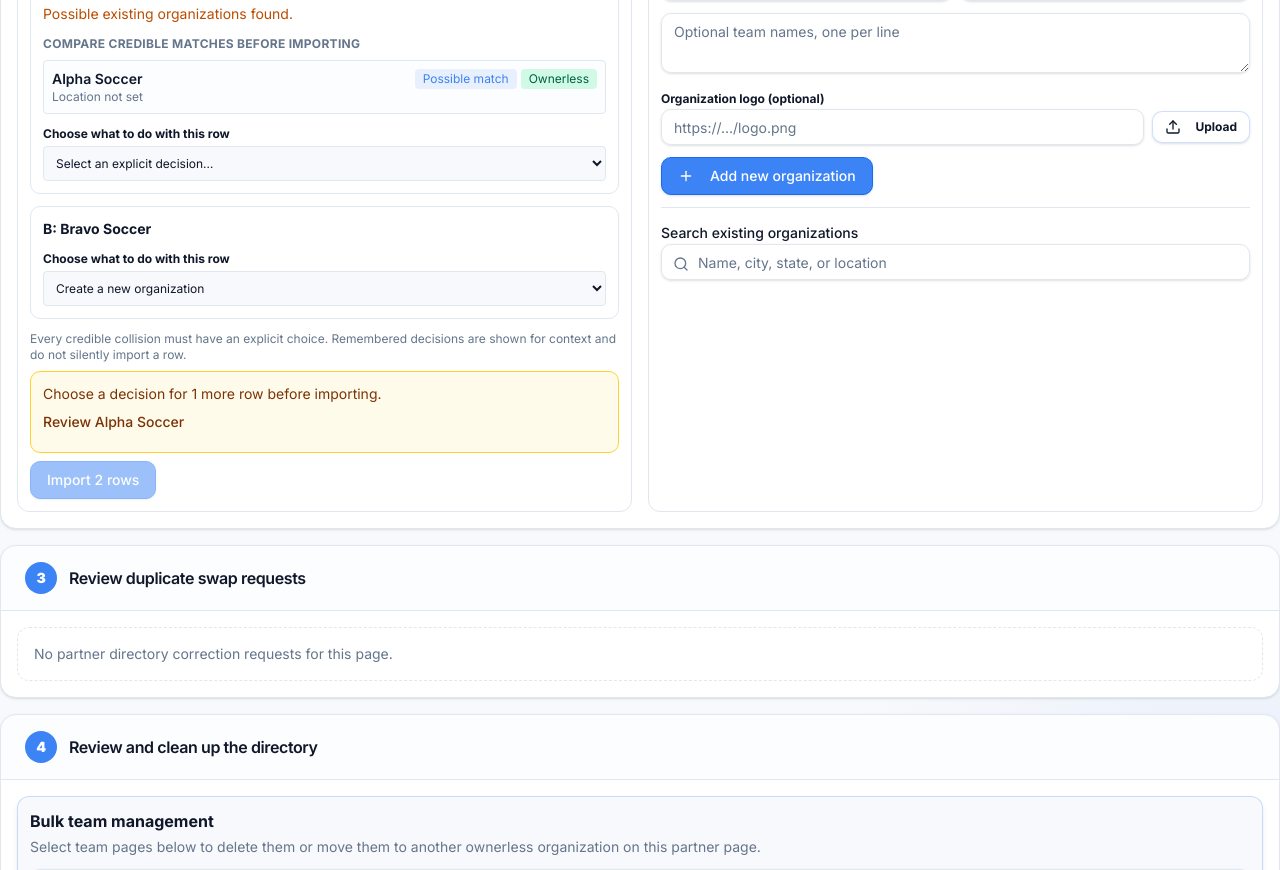
Test case: partner spreadsheet import › requires explicit collision decisions and resets correctly to undecided
Earlier steps of the test are not shown.
(page scrolled)
Check: the dropdown with test id "select-import-decision-0" is shown, box [43,146,606,181]
Check: the button with test id "btn-run-partner-import" is disabled, box [30,461,156,499]
Step 1. Click the button "Review Alpha Soccer" → x=114, y=422, box [43,404,184,440]
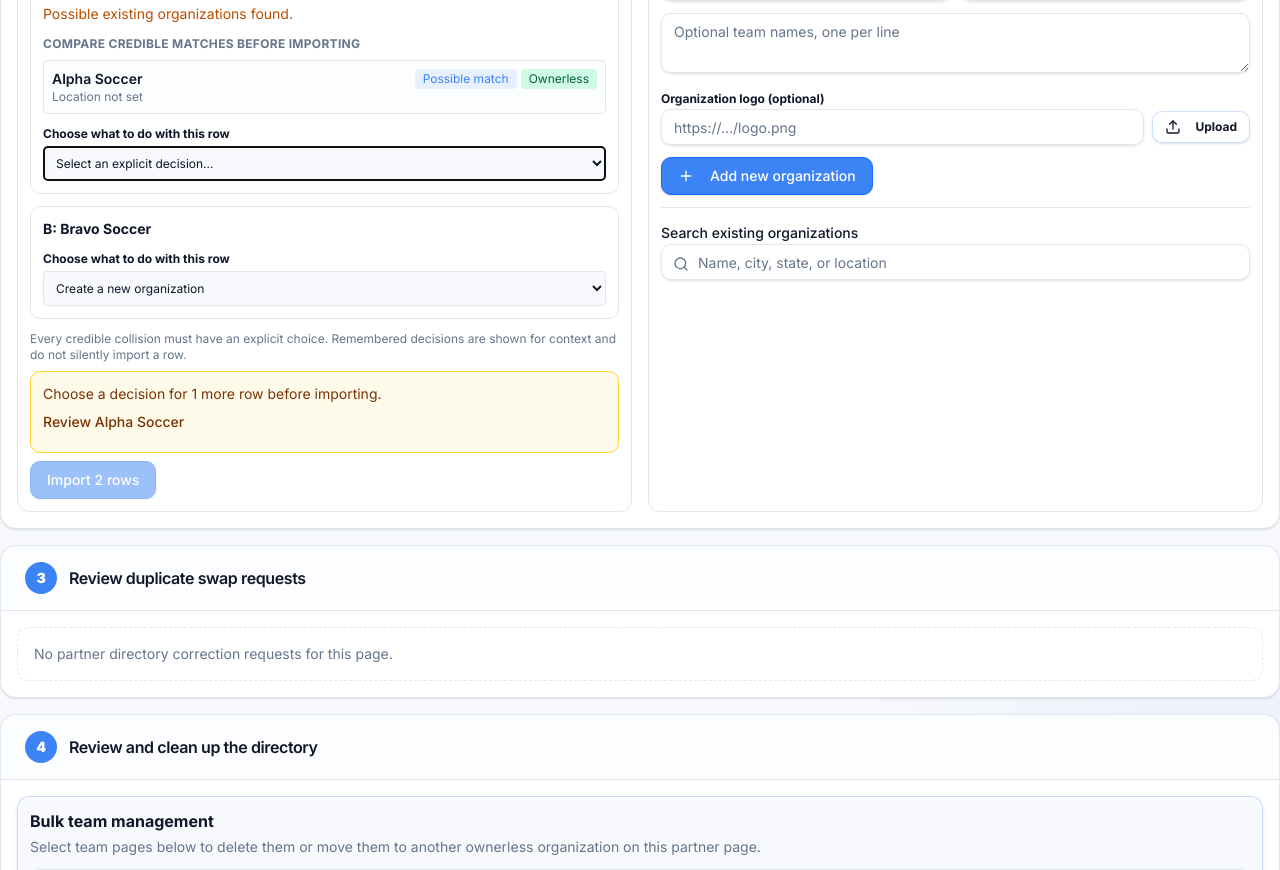
Step 2. Select "Create a new organization (keep distinct from matches)" in the dropdown with test id "select-import-decision-0" → x=324, y=164, box [43,146,606,181]
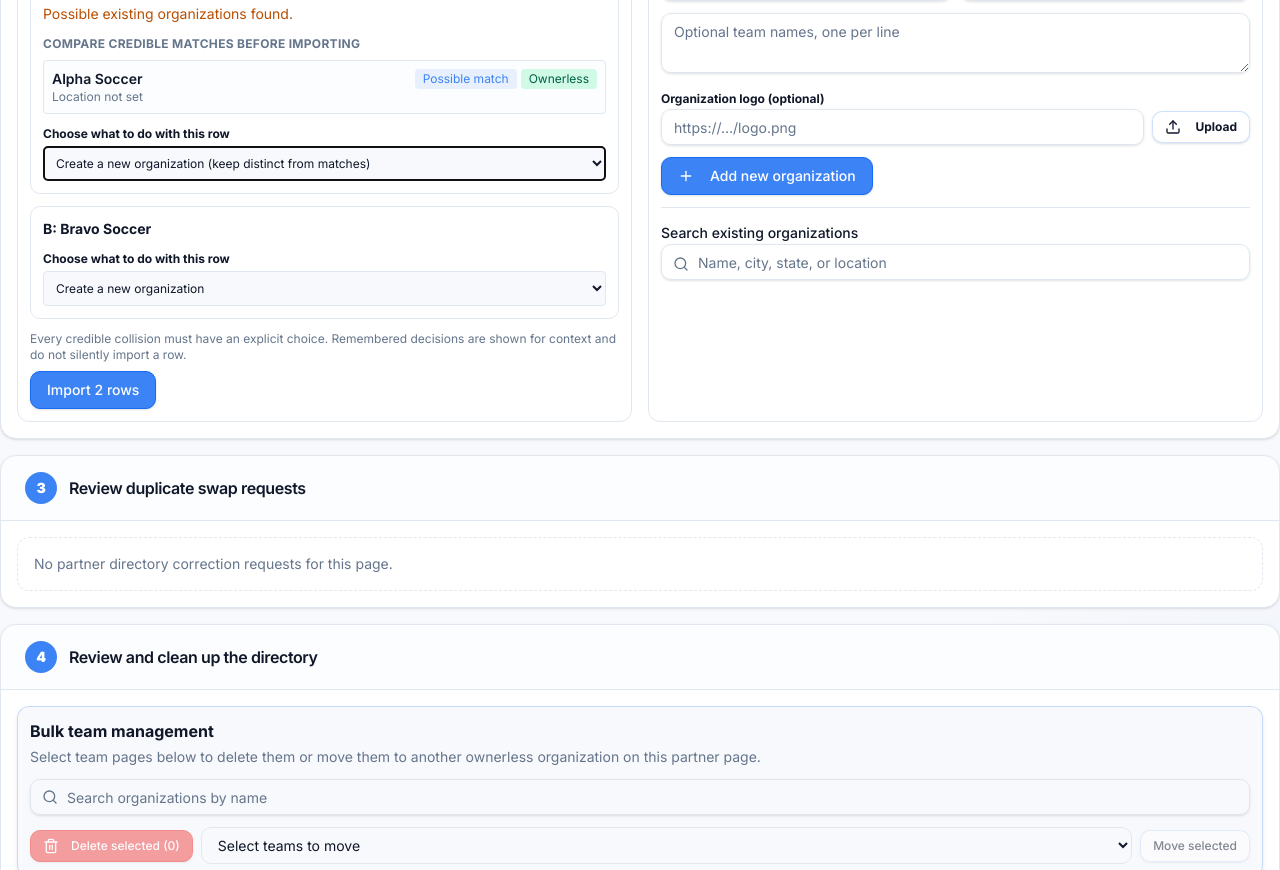
Check: the button with test id "btn-run-partner-import" is enabled, box [30,371,156,409]
Step 3. Select "Select an explicit decision…" in the dropdown with test id "select-import-decision-0" → x=324, y=164, box [43,146,606,181]
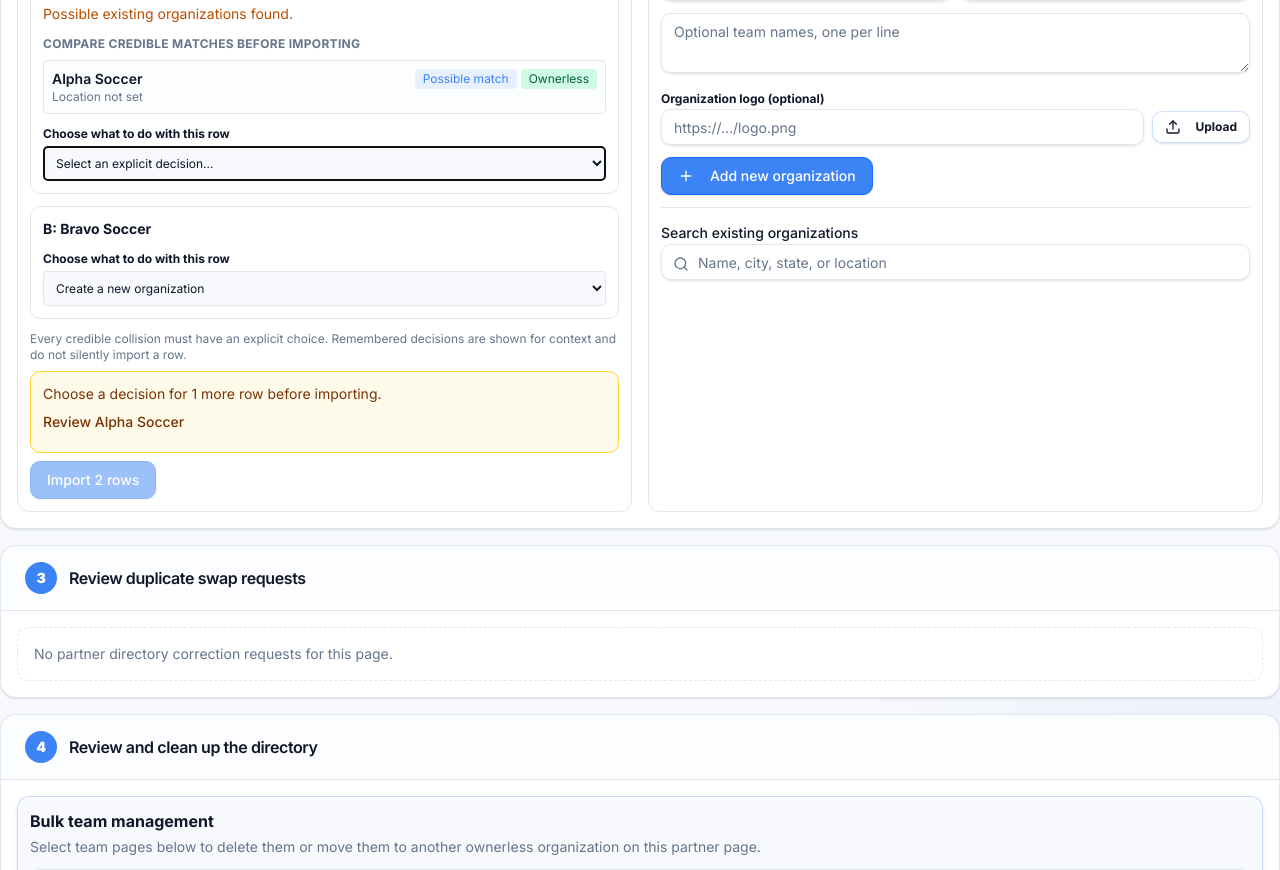
Check: the button with test id "btn-run-partner-import" is disabled, box [30,461,156,499]
